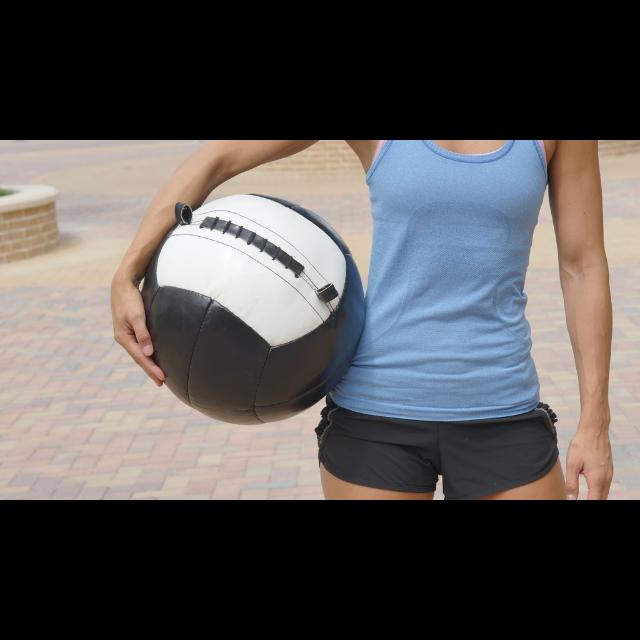Football: (138, 193, 370, 423)
